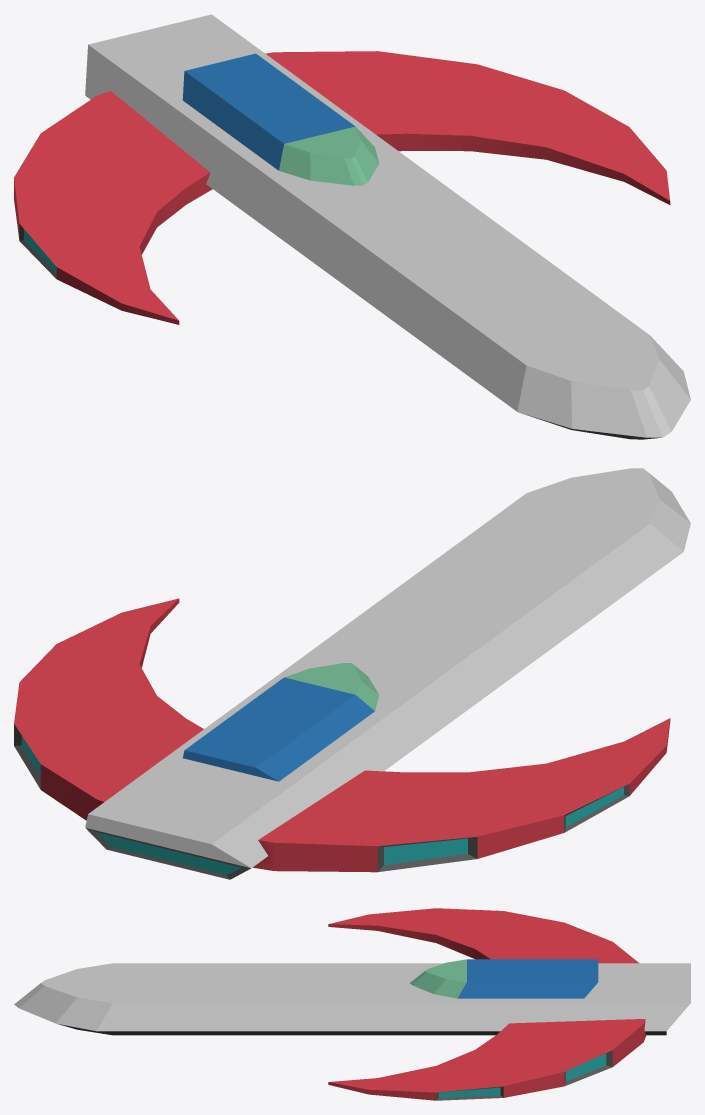
The model's file is Knight.fbx.
3 renders of one model, top to bottom at view 1: azimuth 30°, elevation 25°; view 2: azimuth 150°, elevation 25°; view 3: azimuth 270°, elevation 25°, orthographic. The views are drawn at different scales.
Parts seen in each view (by area): view 1: Knight; view 2: Knight; view 3: Knight.
Boxes of the visible parts, box(x1,y1,x2,y2) form: Knight: box(14, 14, 690, 439); Knight: box(14, 468, 690, 879); Knight: box(14, 908, 690, 1100).
Size of the model in its own units: 18.54 by 2.09 by 28.78.
